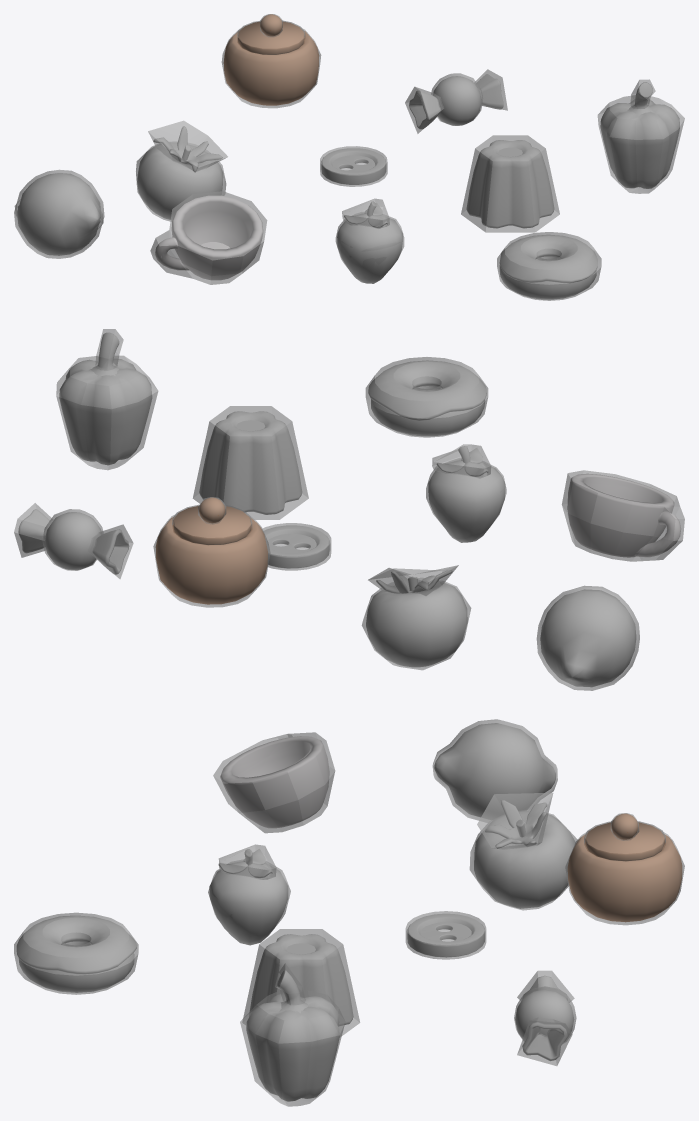
The model's file is Assets_set_3.fbx.
3 views of the same model, one above another, from view 1: azimuth 30°, elevation 25°; view 2: azimuth 150°, elevation 25°; view 3: azimuth 270°, elevation 25° (orthographic). The views are drawn at different scales.
Parts seen in each view (by area): view 1: Cup_col, Jally_col, Pot_col, Pepper_col, Pot, Cup, Lemon_col, Jelly, Tomato_col, Pepper, Donut_col, Lemon (+8 smaller); view 2: Jally_col, Pot_col, Pepper_col, Pot, Cup_col, Tomato_col, Lemon_col, Jelly, Pepper, Donut_col, Cup, Tomato (+8 smaller); view 3: Pot_col, Pepper_col, Tomato_col, Pot, Cup_col, Pepper, Donut_col, Lemon_col, Tomato, Lemon, Cup, Donut (+8 smaller).
Part boxes in pixels (left/top/right/bottom): Cup_col: left=150, top=191, right=267, bottom=284; Jally_col: left=461, top=135, right=559, bottom=232; Pot_col: left=221, top=14, right=321, bottom=108; Pepper_col: left=597, top=79, right=684, bottom=193; Pot: left=223, top=14, right=319, bottom=105; Cup: left=155, top=195, right=263, bottom=280; Lemon_col: left=14, top=169, right=104, bottom=258; Jelly: left=466, top=140, right=554, bottom=228; Tomato_col: left=136, top=120, right=227, bottom=221; Pepper: left=600, top=82, right=679, bottom=188; Donut_col: left=497, top=232, right=601, bottom=300; Lemon: left=17, top=173, right=100, bottom=255; Jally_col: left=193, top=406, right=308, bottom=519; Pot_col: left=153, top=497, right=270, bottom=607; Pepper_col: left=56, top=329, right=158, bottom=470; Pot: left=155, top=497, right=267, bottom=604; Cup_col: left=562, top=470, right=684, bottom=561; Tomato_col: left=362, top=565, right=471, bottom=670; Lemon_col: left=536, top=585, right=639, bottom=690; Jelly: left=199, top=411, right=302, bottom=514; Pepper: left=59, top=332, right=152, bottom=465; Donut_col: left=365, top=357, right=488, bottom=437; Cup: left=567, top=473, right=680, bottom=557; Tomato: left=366, top=570, right=467, bottom=667; Pot_col: left=565, top=813, right=684, bottom=925; Pepper_col: left=240, top=963, right=345, bottom=1106; Tomato_col: left=469, top=792, right=577, bottom=910; Pot: left=567, top=813, right=682, bottom=922; Cup_col: left=213, top=732, right=335, bottom=833; Pepper: left=246, top=970, right=339, bottom=1101; Donut_col: left=14, top=912, right=138, bottom=994; Lemon_col: left=432, top=719, right=557, bottom=822; Tomato: left=474, top=800, right=575, bottom=908; Lemon: left=434, top=723, right=555, bottom=819; Cup: left=220, top=736, right=329, bottom=828; Donut: left=16, top=915, right=137, bottom=992.
Bounding box in the file's own units: 1342 × 318 × 1144.
